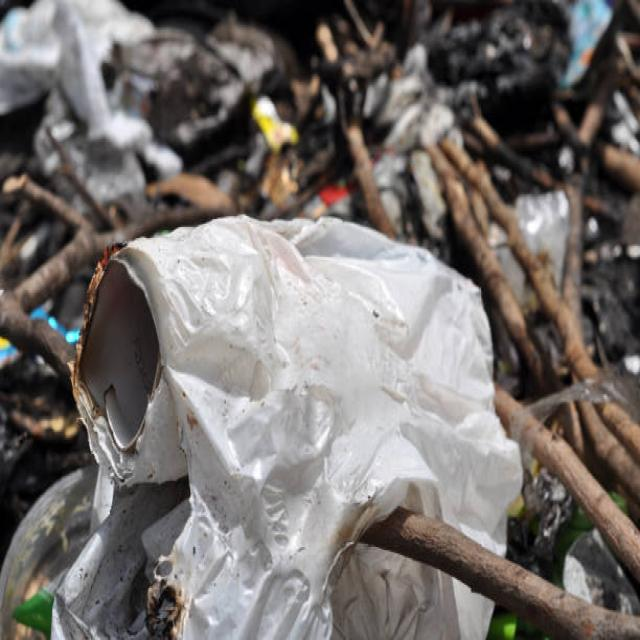plastic: (167, 265, 479, 500)
